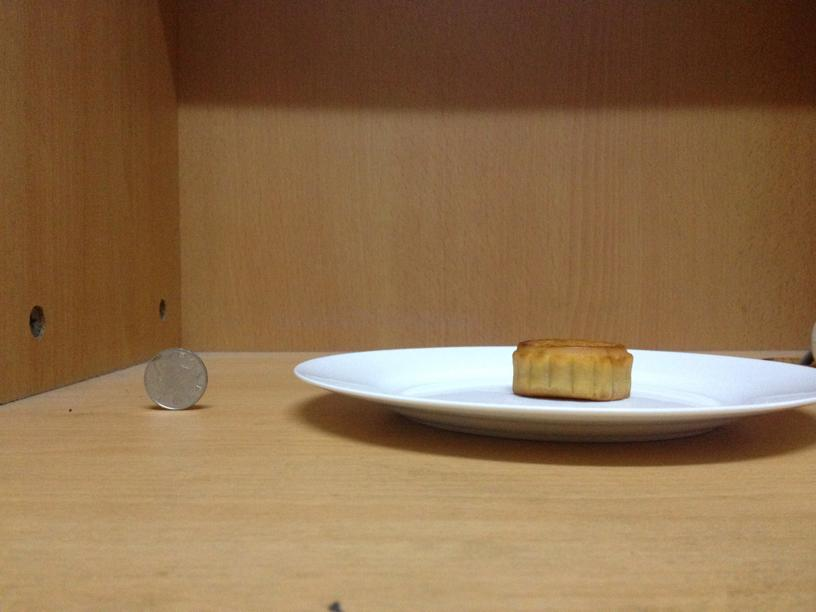coin: (142, 347, 207, 409)
mooncake: (510, 334, 633, 400)
